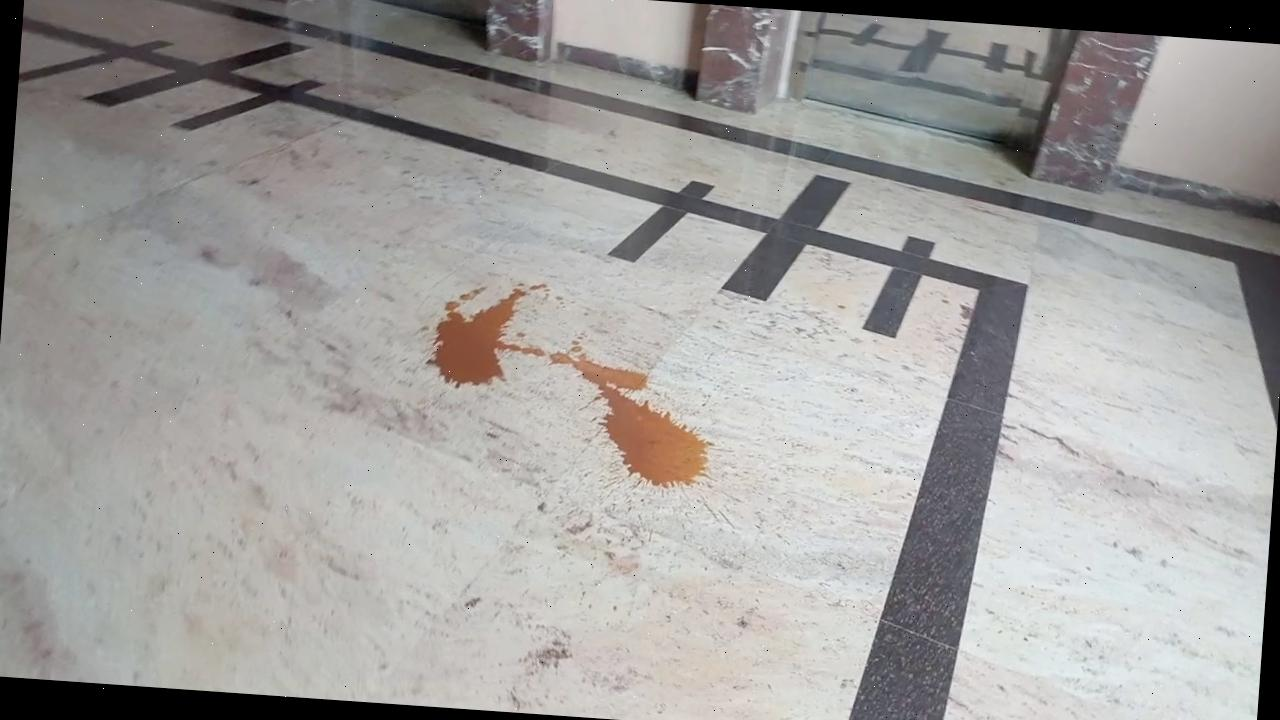dirty_floor: (420, 274, 725, 490)
